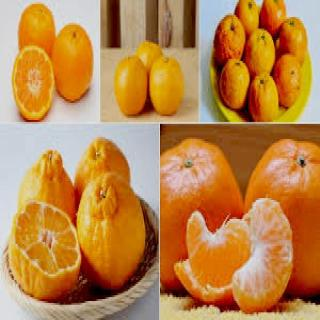orange: (156, 122, 242, 310), (243, 124, 320, 302), (9, 190, 82, 316), (72, 176, 152, 290), (230, 182, 299, 310), (171, 198, 249, 311), (53, 20, 98, 108), (149, 50, 185, 131), (271, 44, 305, 124), (216, 53, 252, 122), (247, 66, 277, 132)
